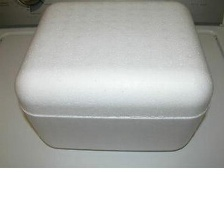foam_box: (10, 0, 217, 157)
